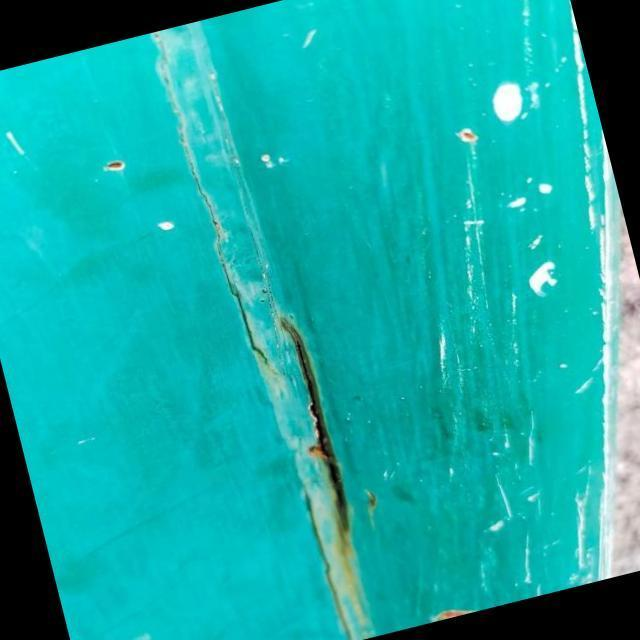defect: (147, 32, 281, 379), (276, 314, 357, 540)
